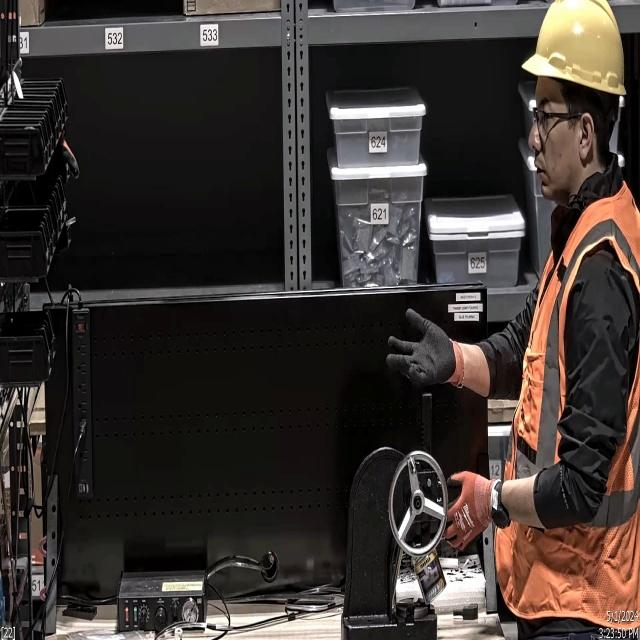construction-gloves: (388, 308, 468, 393), (432, 468, 506, 554)
